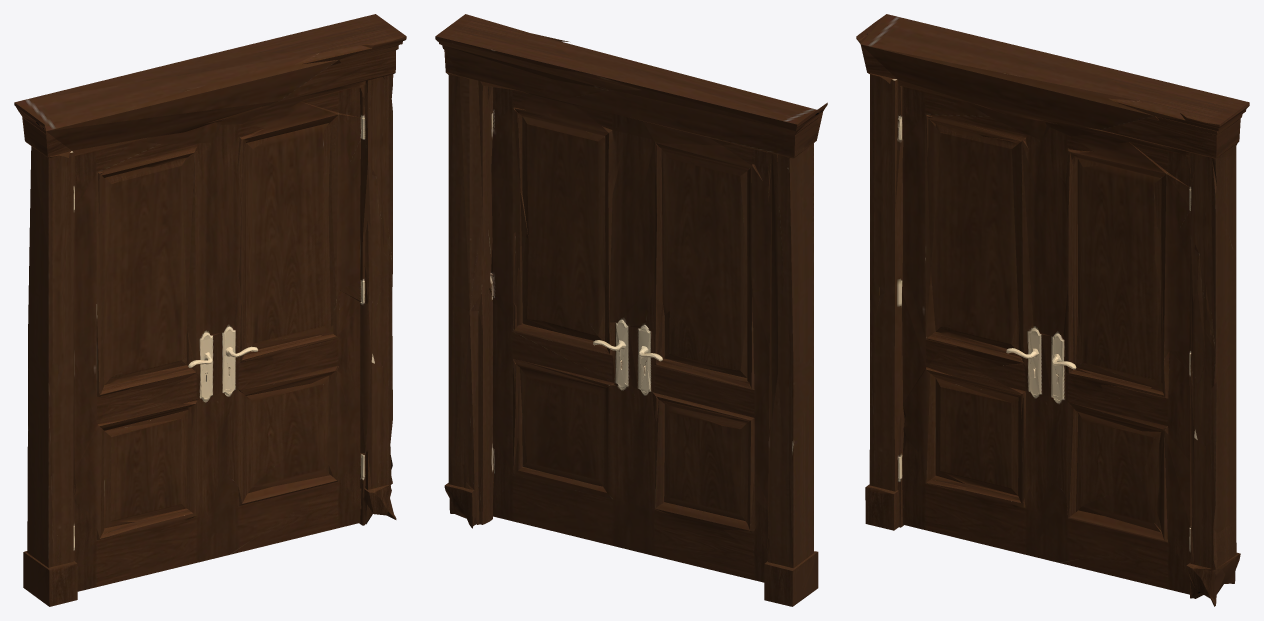
File: eshik.glb
3 views of the same model, side by side, from view 1: azimuth 30°, elevation 25°; view 2: azimuth 150°, elevation 25°; view 3: azimuth 330°, elevation 25° (orthographic).
Parts seen in each view (by area): view 1: output_unwrapped; view 2: output_unwrapped; view 3: output_unwrapped.
Part boxes in pixels (x1,y1,x2,y2): output_unwrapped: [14, 14, 406, 606]; output_unwrapped: [435, 14, 827, 606]; output_unwrapped: [856, 14, 1249, 606].
Size of the model in its own units: 1.9 by 2.44 by 0.2771.
Materials: 1 (1 with a texture image).
